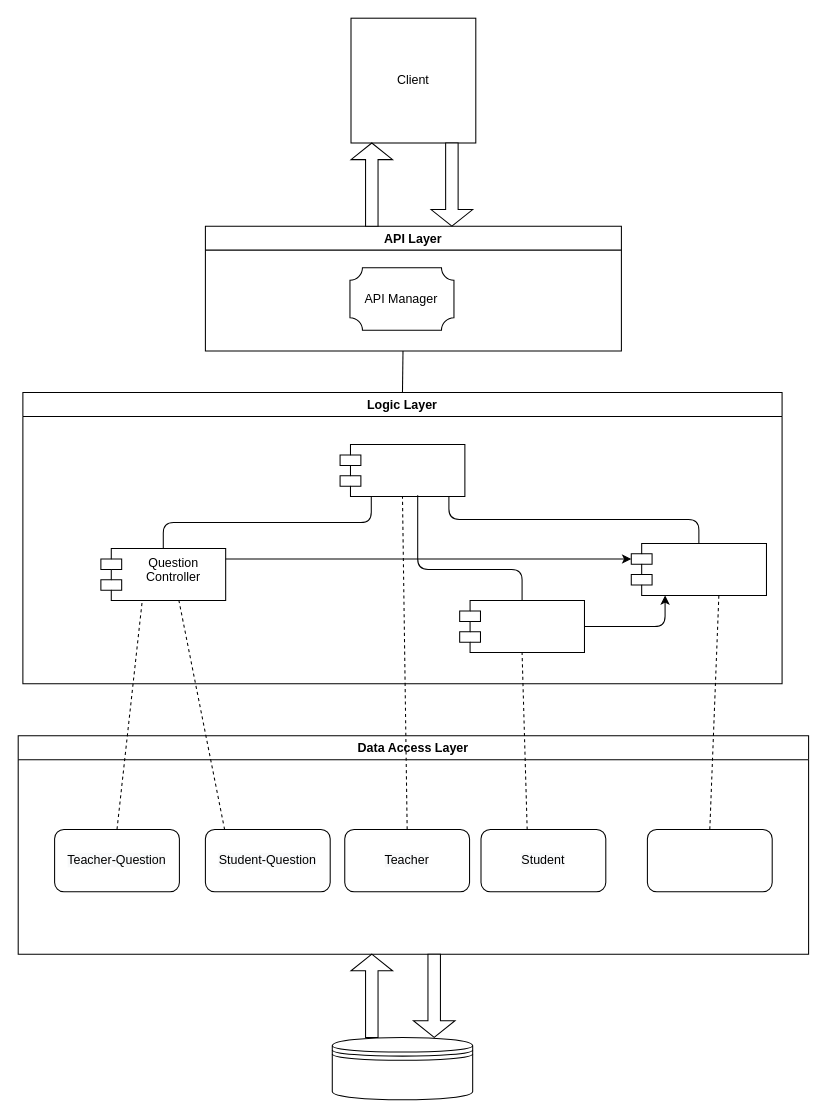
Some shapes in this 827 by 1118 pixel diagram are drawn without their labels. The centre of each missing label's shape, as x and y in pixels:
"database" belongs at point (402, 1068).
"Game Record" belongs at point (709, 860).
"Game Record Controller" belongs at point (698, 568).
"Student Controller" belongs at point (521, 626).
"Teacher Controller" belongs at point (402, 470).
